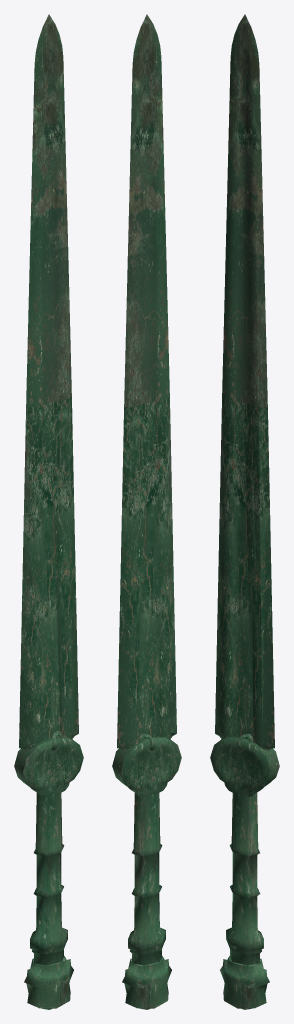
The picture shows the model from 3 angles, left to right: view 1: azimuth 30°, elevation 25°; view 2: azimuth 210°, elevation 25°; view 3: azimuth 330°, elevation 25°; orthographic projection.
Visible parts, largest first — view 1: Ob5; view 2: Ob5; view 3: Ob5.
Part boxes in pixels (x1,y1,x2,y2): Ob5: (14,14,83,1009); Ob5: (112,14,181,1009); Ob5: (210,14,279,1009).
Bounding box in the file's own units: 15.58 × 243 × 7.51.
Materials: 1 (1 with a texture image).
